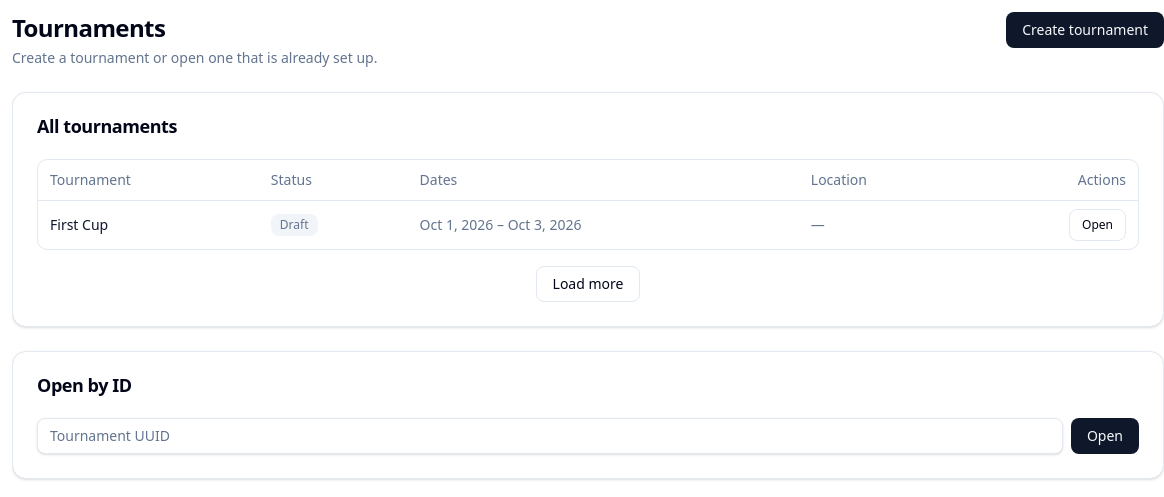
Test: TournamentEntryPage collection list › loads the next page when load more is used
Expected: the link "First Cup" is shown, [50, 214, 108, 234]
Click the button "Load more": (588, 284) [536, 266, 640, 302]
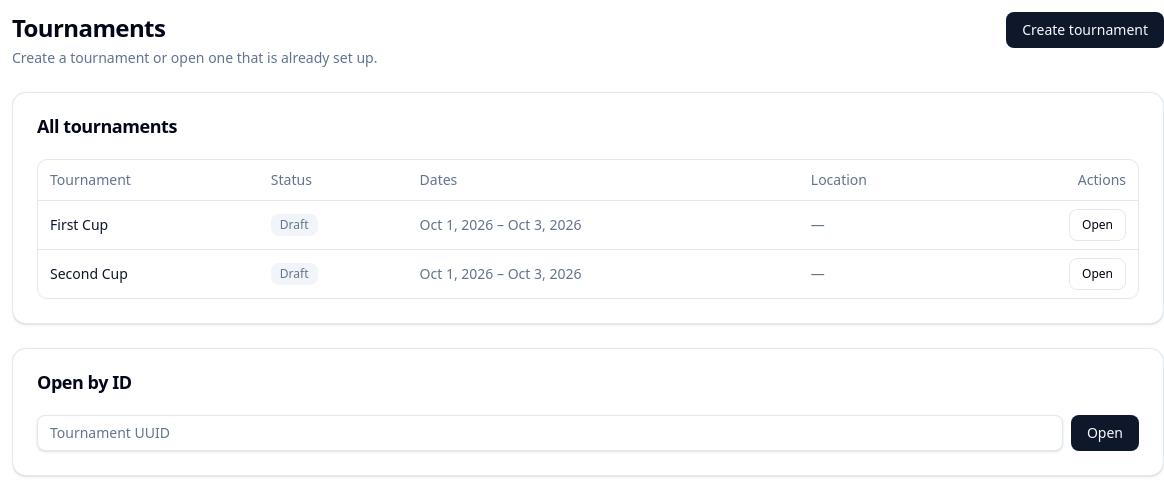
Expected: the link "First Cup" is shown, [50, 214, 108, 234]
Expected: the link "Second Cup" is shown, [50, 264, 128, 282]
